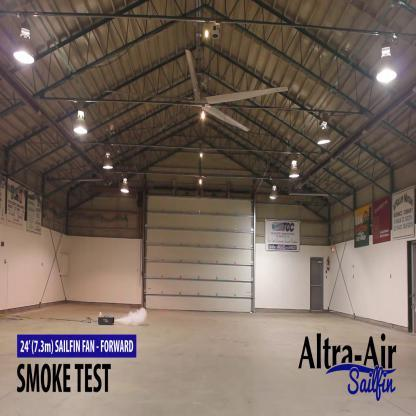smoke: (118, 306, 150, 327)
